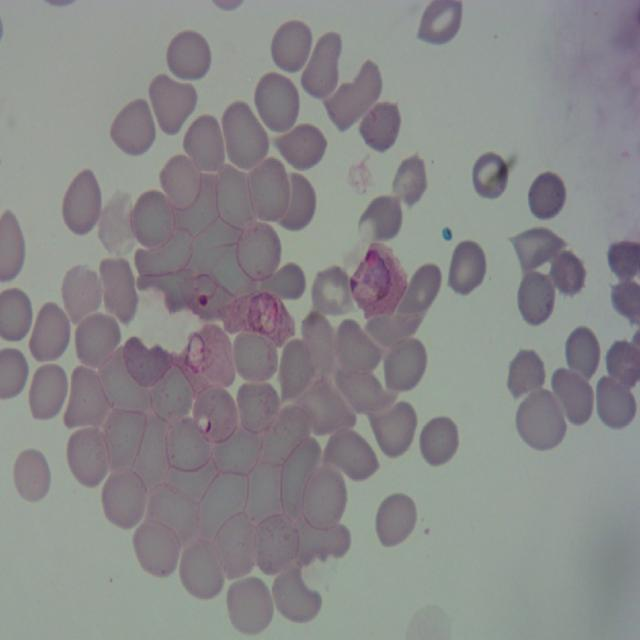leukocyte: (97, 345, 155, 419), (324, 60, 382, 132), (297, 370, 356, 436), (221, 100, 271, 172), (147, 352, 195, 426), (280, 439, 321, 525), (130, 410, 171, 494), (515, 386, 567, 452), (256, 405, 312, 466), (269, 562, 324, 624), (62, 366, 114, 430), (148, 73, 199, 138), (198, 474, 248, 540), (147, 485, 200, 547), (368, 395, 418, 460), (100, 464, 149, 530), (300, 28, 344, 101), (244, 158, 292, 224), (60, 166, 104, 238), (178, 531, 225, 598), (320, 429, 379, 482), (302, 461, 346, 532), (242, 458, 286, 529), (253, 70, 301, 135), (130, 518, 180, 580), (270, 169, 318, 233), (64, 424, 112, 488), (225, 573, 274, 635), (549, 364, 595, 430), (172, 172, 218, 238), (162, 416, 216, 472), (102, 407, 148, 472), (73, 310, 123, 369), (128, 189, 176, 250), (134, 229, 194, 277), (278, 118, 330, 173), (336, 370, 398, 416), (214, 513, 257, 579), (300, 308, 338, 382), (255, 514, 301, 575), (28, 301, 72, 364), (163, 453, 220, 501), (26, 361, 70, 423), (97, 254, 138, 320), (373, 490, 418, 550), (164, 27, 212, 83), (235, 380, 282, 437), (268, 17, 314, 75), (294, 516, 352, 562), (334, 322, 382, 377), (111, 100, 156, 158), (210, 428, 262, 478), (231, 328, 280, 381), (238, 221, 282, 280), (509, 223, 564, 270), (60, 264, 103, 324), (446, 238, 488, 299), (593, 373, 637, 431), (122, 336, 173, 386), (98, 188, 136, 254), (182, 114, 225, 171), (516, 268, 556, 329), (417, 414, 461, 469), (358, 194, 404, 246), (216, 163, 253, 226), (383, 338, 427, 390), (564, 324, 602, 384), (14, 444, 51, 505), (546, 246, 588, 299), (160, 155, 202, 208), (469, 148, 510, 201), (504, 348, 546, 399), (358, 101, 400, 152), (400, 264, 440, 315), (263, 259, 308, 304), (310, 265, 351, 314), (527, 174, 567, 223), (280, 340, 313, 396), (394, 155, 426, 208), (606, 238, 640, 286)
red blood cell: (183, 268, 236, 320), (191, 384, 235, 442)
schizont: (347, 238, 407, 323), (175, 324, 234, 396), (224, 289, 295, 347)
